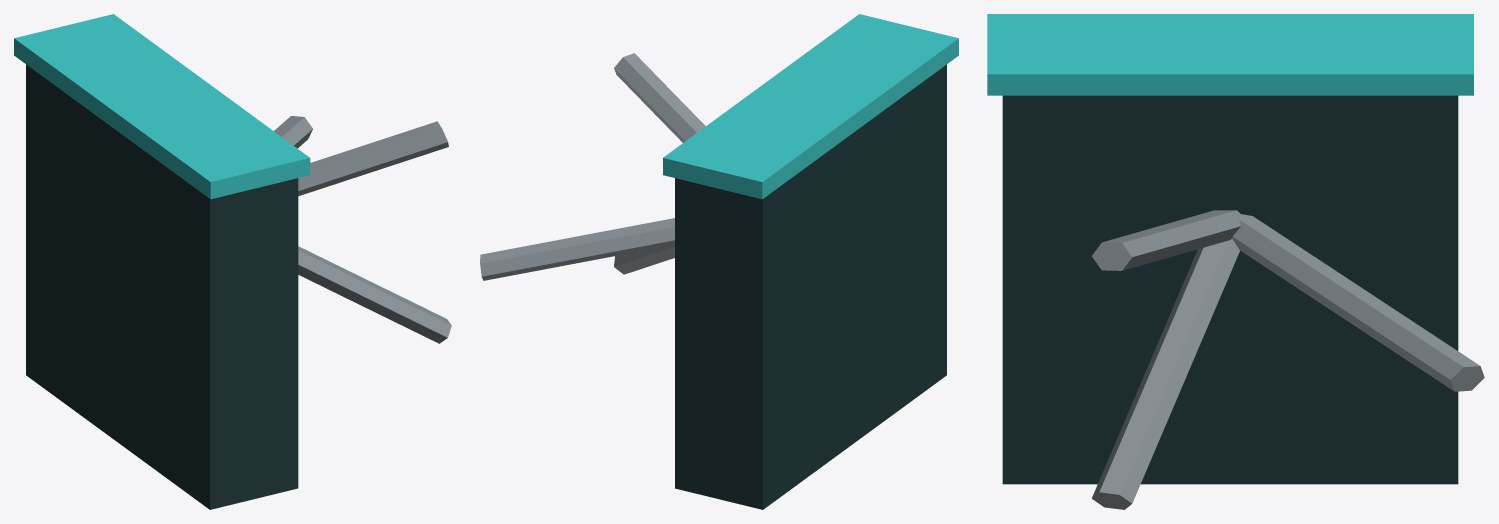
File: entrance_turnstile.fbx
3 views of the same model, side by side, from view 1: azimuth 30°, elevation 25°; view 2: azimuth 150°, elevation 25°; view 3: azimuth 270°, elevation 25° (orthographic). The views are drawn at different scales.
Parts seen in each view (by area): view 1: entrance_turnstile; view 2: entrance_turnstile; view 3: entrance_turnstile.
Boxes of the visible parts, x1,y1,x2,y2 form: entrance_turnstile: [14, 14, 451, 509]; entrance_turnstile: [480, 14, 958, 509]; entrance_turnstile: [987, 14, 1484, 509].
Bounding box in the file's own units: 1 × 1.1 × 1.2.
